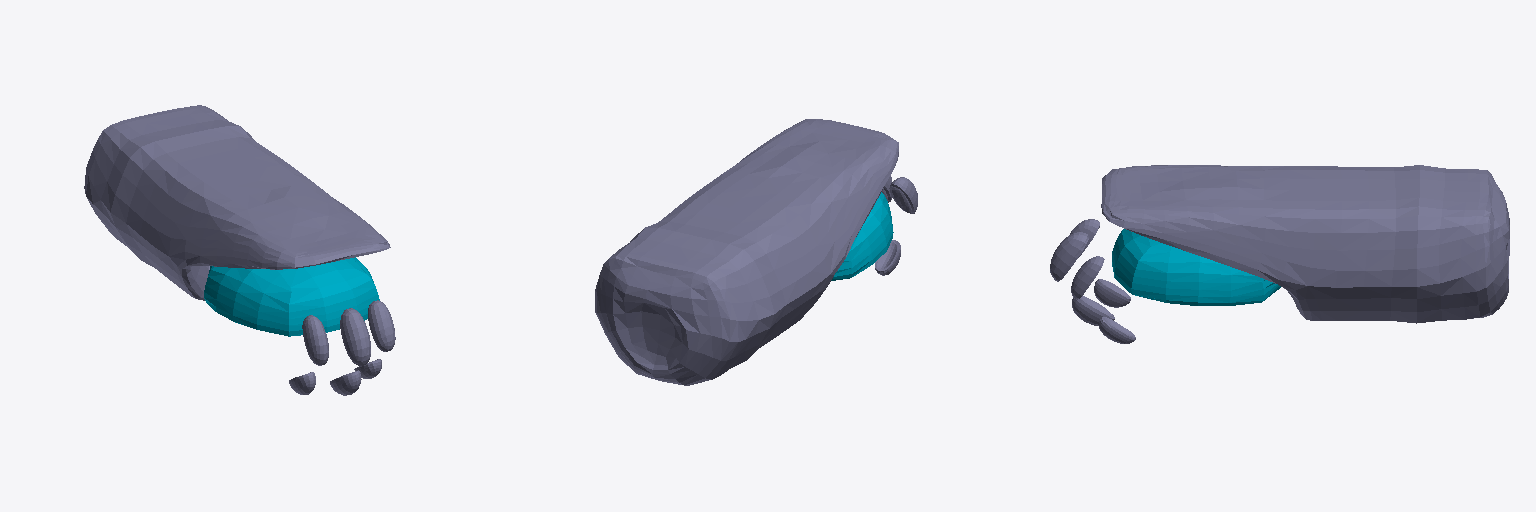
Rendered from robot_arm_blue.obj.
3 renders of one model, left to right at view 1: azimuth 30°, elevation 25°; view 2: azimuth 150°, elevation 25°; view 3: azimuth 270°, elevation 25°, orthographic.
Visible parts, largest first — view 1: arm; view 2: arm; view 3: arm.
Boxes of the visible parts, box(x1,y1,x2,y2) form: arm: box(84, 105, 395, 395); arm: box(595, 119, 917, 385); arm: box(1050, 165, 1509, 343).
Bounding box in the file's own units: 4.51 × 4.09 × 11.79.